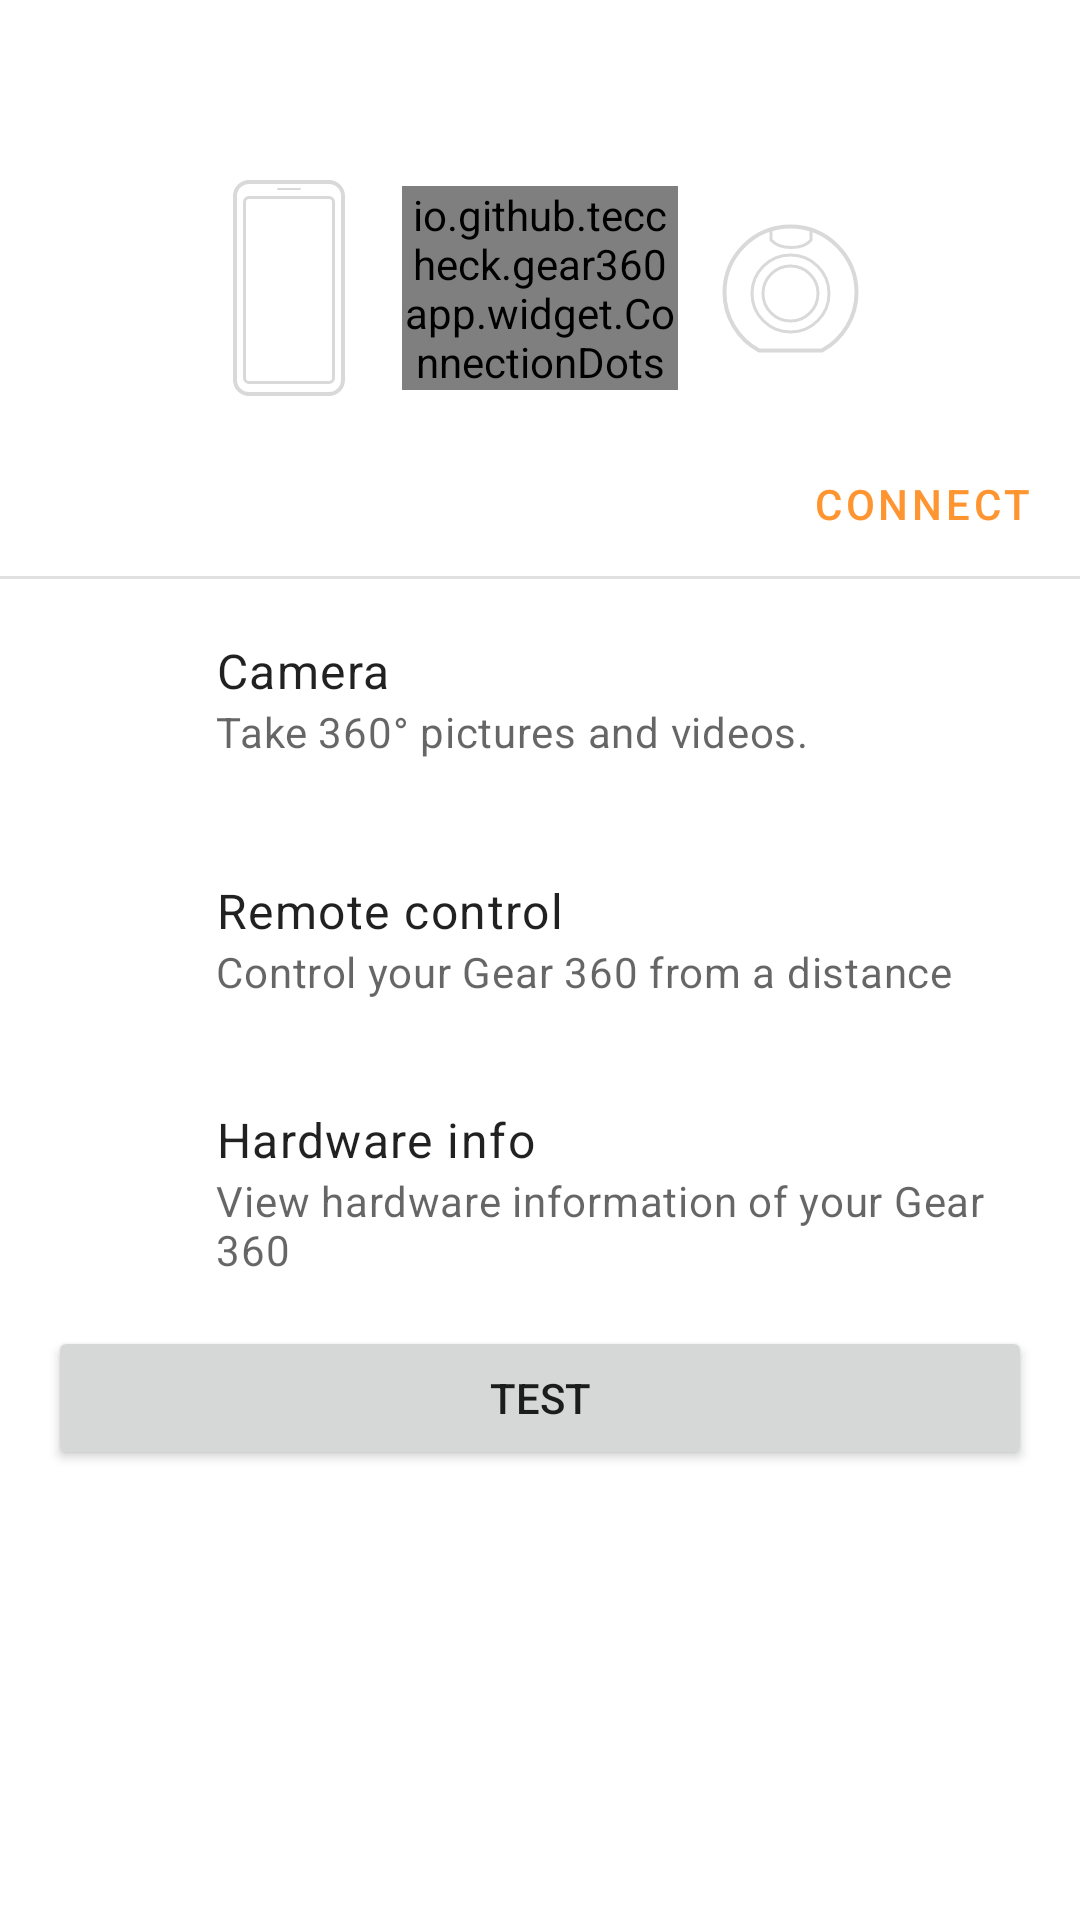

Icon click points for this 1080×1920 phone screenshot, format point (x, y):
connect phone: point (289, 288)
